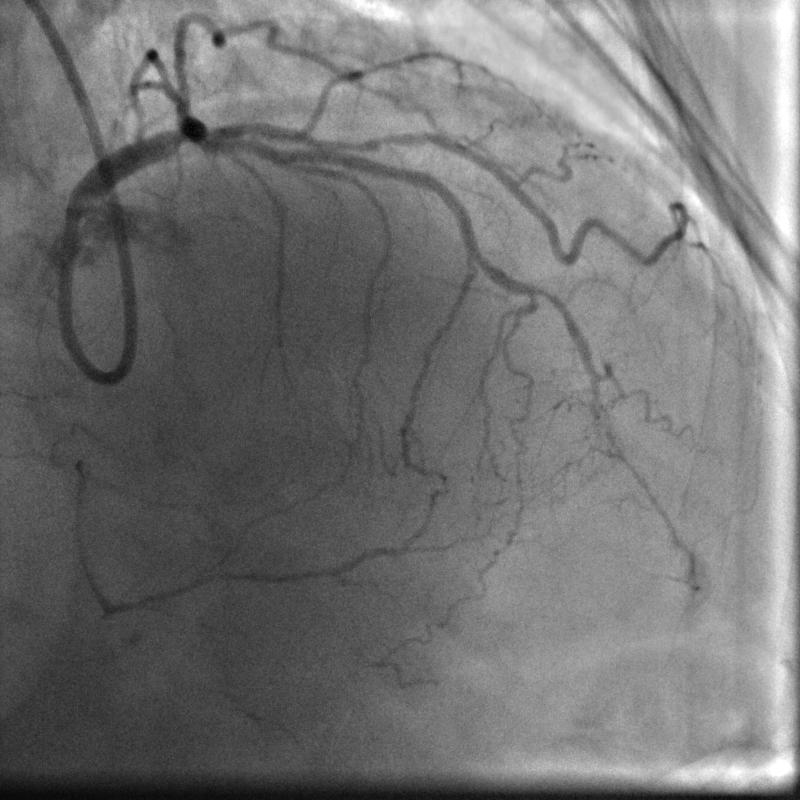Stenosis: (159, 113, 193, 159)
